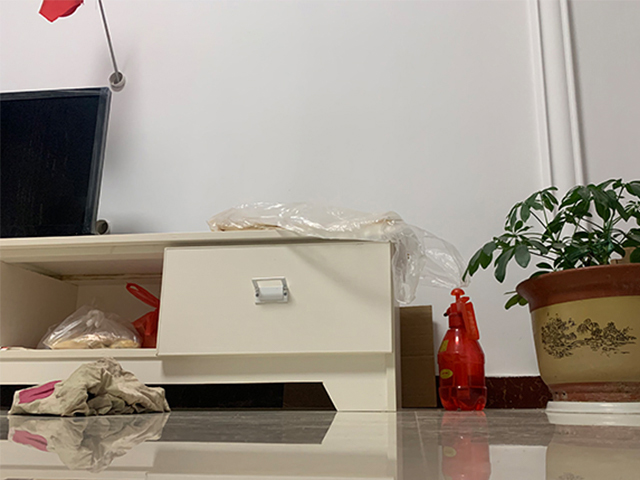cabinet: (1, 216, 404, 412)
